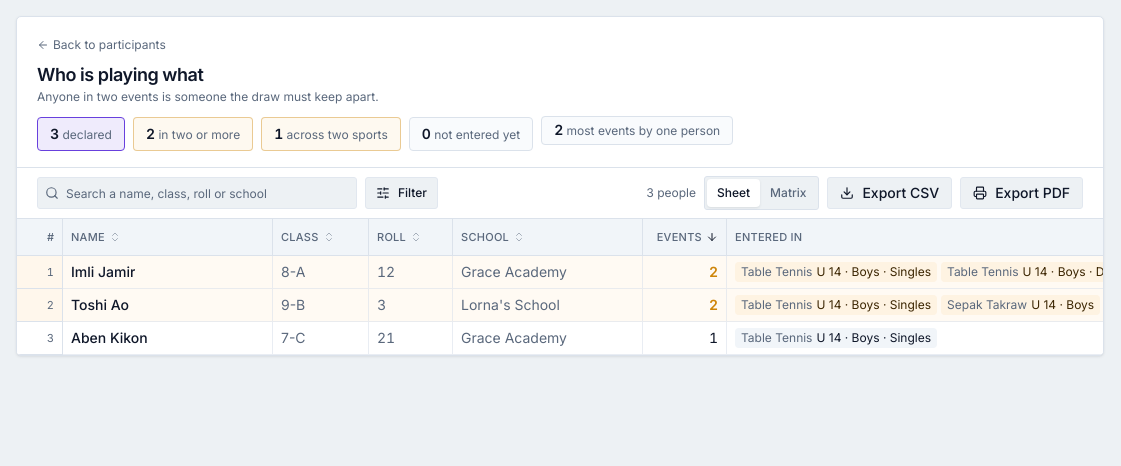
Test: ParticipationPage › says so plainly when a filter matches nobody
Type "zzzz" into the field with test id "participation-search" at [197, 193], box [37,177,357,209]
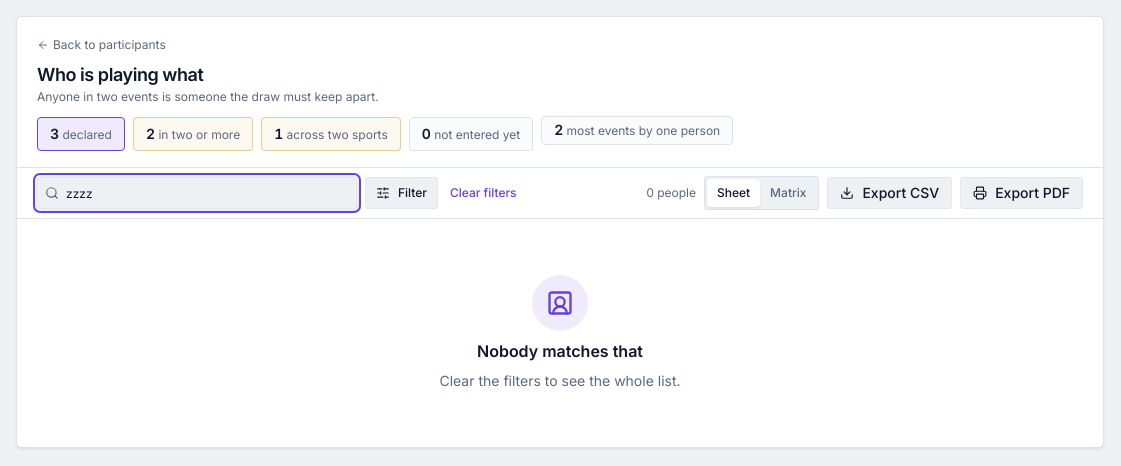
Expected: the heading "Nobody matches that" is shown, [477,339,643,363]
